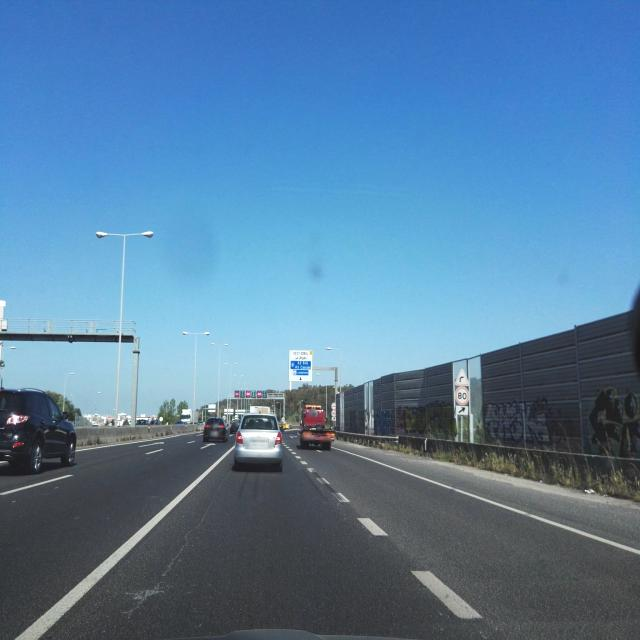car: (0, 386, 77, 475), (233, 413, 284, 472), (203, 417, 228, 443), (230, 418, 240, 434), (149, 417, 163, 426), (136, 417, 150, 426)
